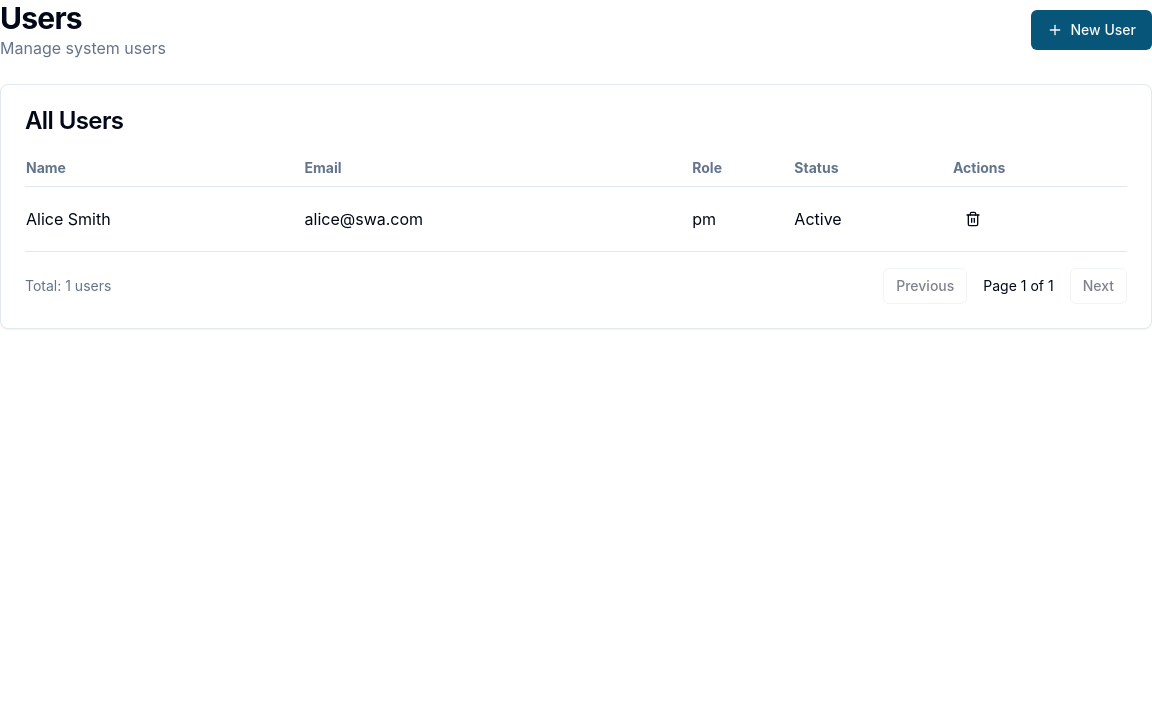
Test: UsersPage › opens create user dialog
The image size is (1152, 720).
Click the button "New User" at (1091, 30), box [1030,10,1151,50]
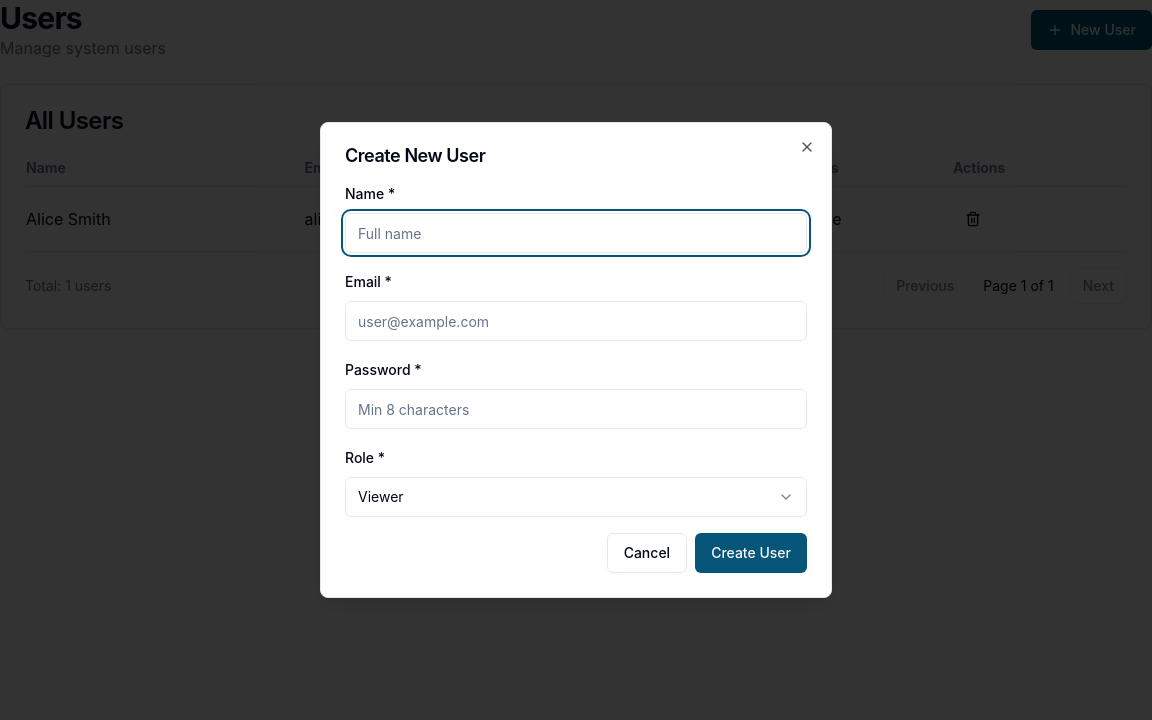
Expected: the heading "Create New User" is shown, [345,145,485,166]
Expected: the text "Name *" is shown, [345,185,395,202]
Expected: the text "Email *" is shown, [345,273,392,290]
